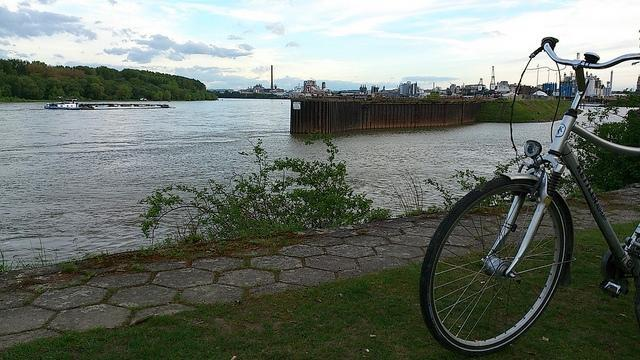bicycle: (428, 44, 637, 343)
